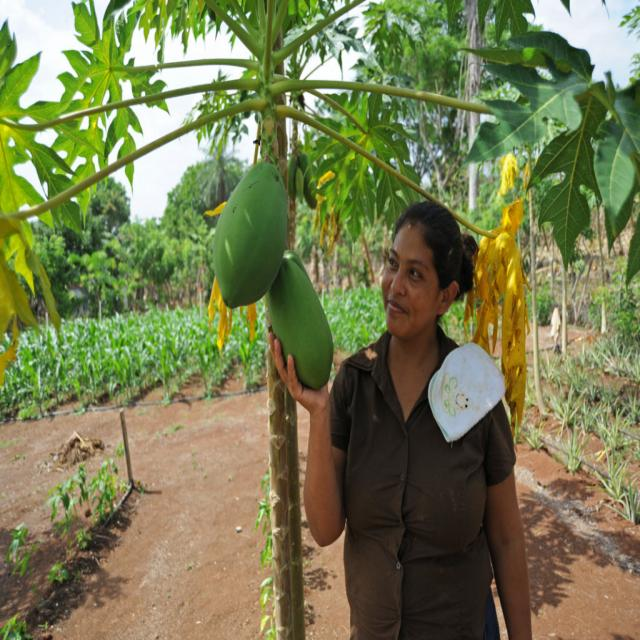Pepaya unrippen: (220, 160, 286, 304), (274, 256, 338, 389)
